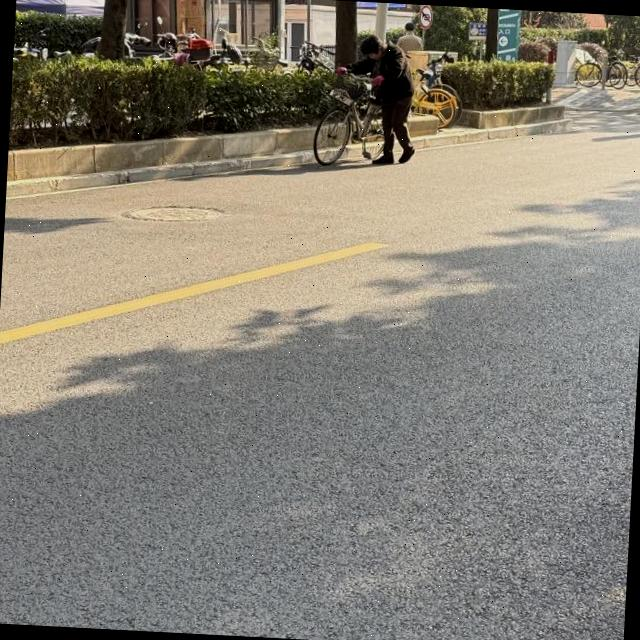curb: (7, 127, 314, 180), (6, 149, 313, 198), (418, 118, 570, 145), (466, 106, 561, 128), (410, 116, 449, 137)
